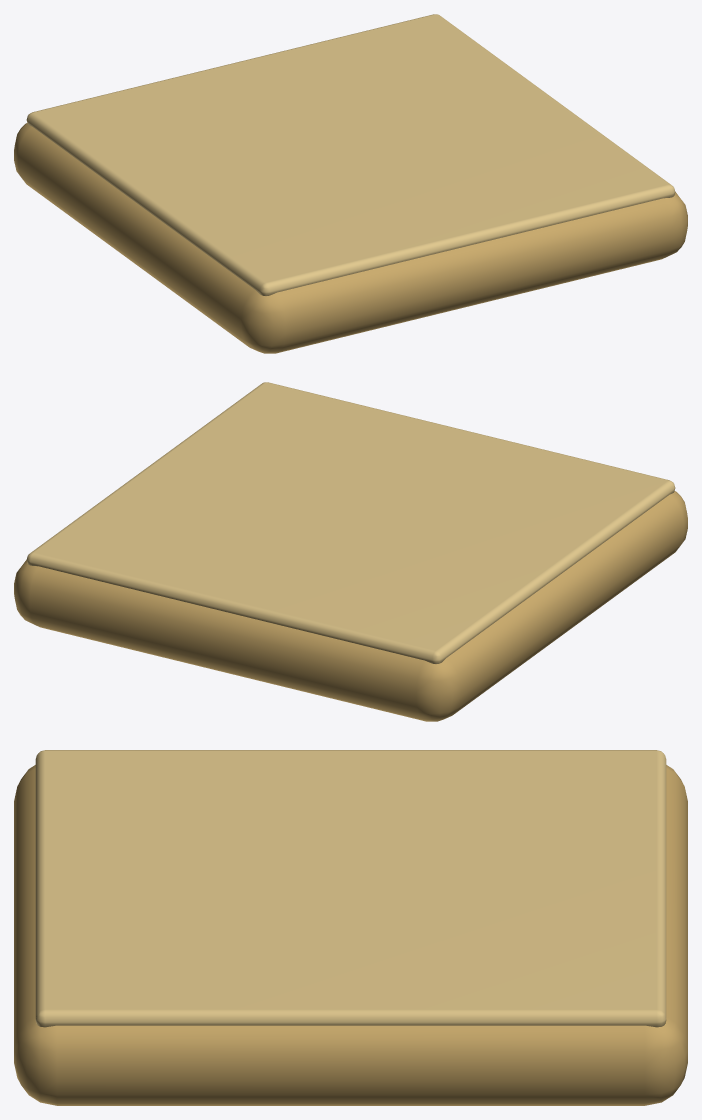
File: corner_tile.glb
The picture shows the model from 3 angles, top to bottom: view 1: azimuth 30°, elevation 25°; view 2: azimuth 150°, elevation 25°; view 3: azimuth 270°, elevation 25°; orthographic projection. The views are drawn at different scales.
Visible parts, largest first — view 1: Cube; view 2: Cube; view 3: Cube.
Boxes of the visible parts, <box> form: Cube: <box>14,14,687,353</box>; Cube: <box>14,382,687,721</box>; Cube: <box>14,750,687,1105</box>.
Size of the model in its own units: 0.94 by 0.15 by 0.94.
